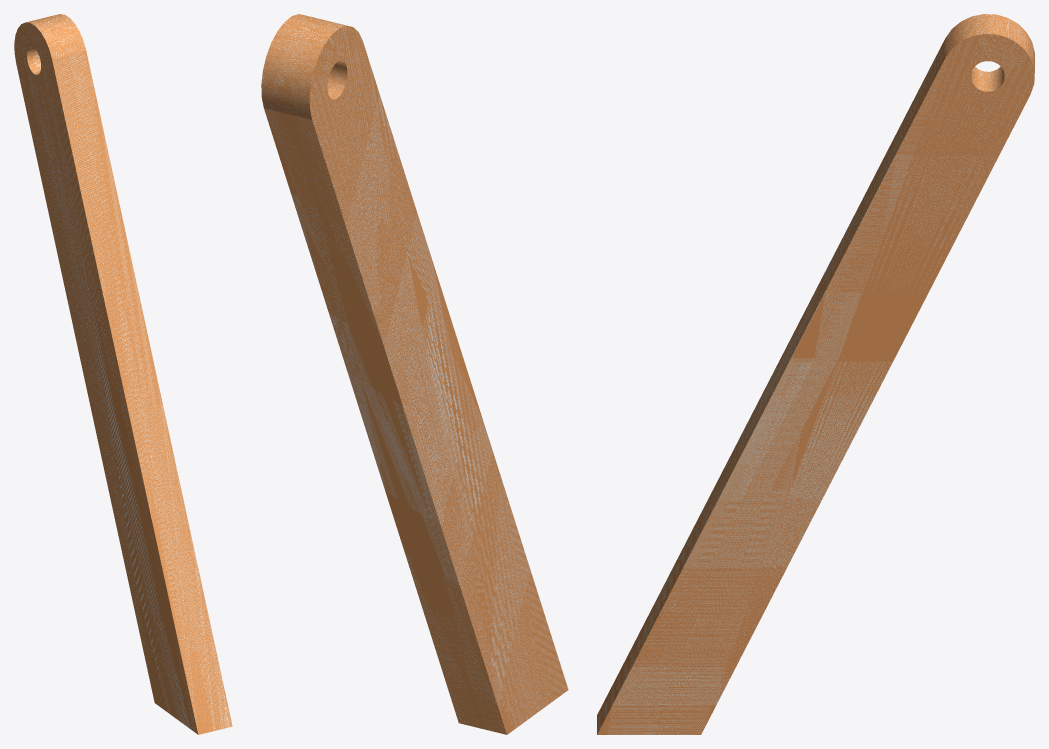
File: original-45.obj
The picture shows the model from 3 angles, left to right: view 1: azimuth 30°, elevation 25°; view 2: azimuth 150°, elevation 25°; view 3: azimuth 270°, elevation 25°; orthographic projection. The views are drawn at different scales.
Parts seen in each view (by area): view 1: E_-_Handle_Support2/E_-_Handle_Support/mesh15/mesh15-geometry#me; view 2: E_-_Handle_Support2/E_-_Handle_Support/mesh15/mesh15-geometry#me; view 3: E_-_Handle_Support2/E_-_Handle_Support/mesh15/mesh15-geometry#me.
Boxes of the visible parts, x1=… form: E_-_Handle_Support2/E_-_Handle_Support/mesh15/mesh15-geometry#me: x1=14, y1=14, x2=232, y2=734; E_-_Handle_Support2/E_-_Handle_Support/mesh15/mesh15-geometry#me: x1=261, y1=14, x2=568, y2=734; E_-_Handle_Support2/E_-_Handle_Support/mesh15/mesh15-geometry#me: x1=597, y1=14, x2=1034, y2=734.
Bounding box in the file's own units: 0.0602 × 0.9883 × 0.5593.
